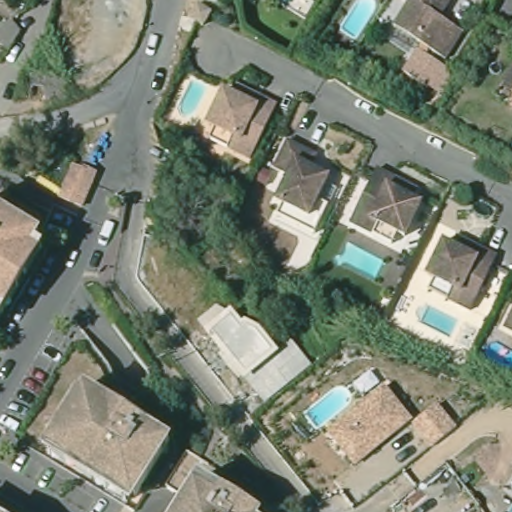pool: (333, 240, 384, 283), (307, 385, 352, 429), (340, 1, 379, 38), (419, 302, 458, 335), (177, 77, 207, 118), (485, 336, 512, 365)
